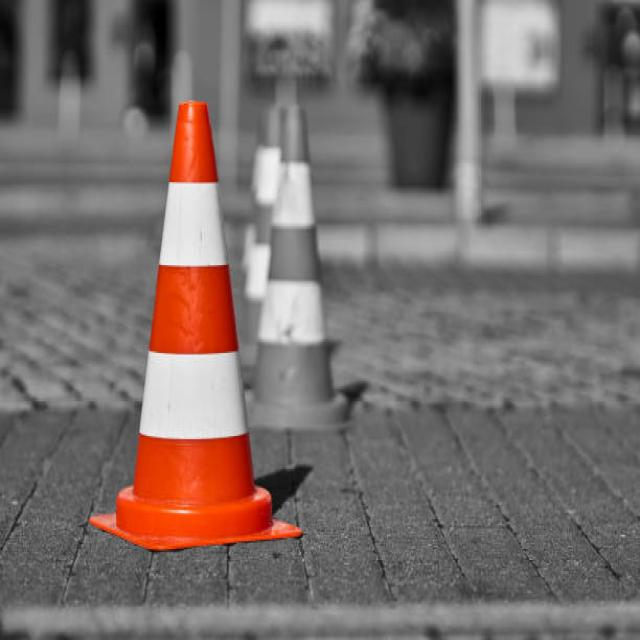Traffic Cone: (76, 62, 320, 572)
